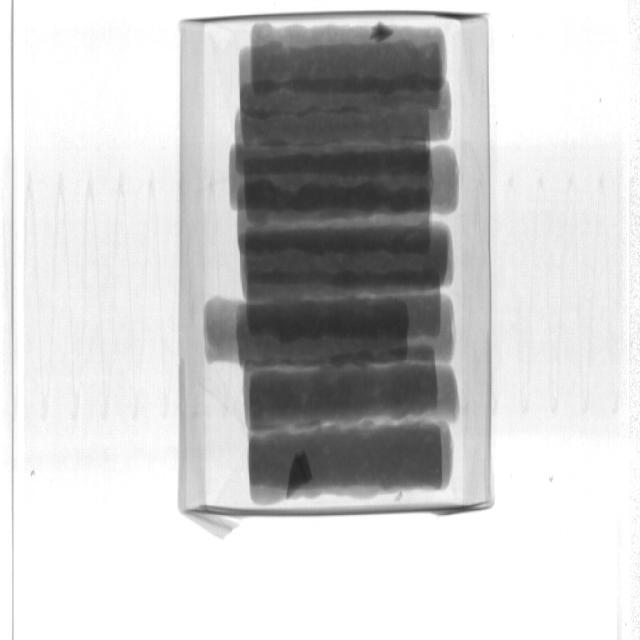ym: (286, 451, 312, 499), (370, 23, 395, 44), (395, 491, 403, 504)
